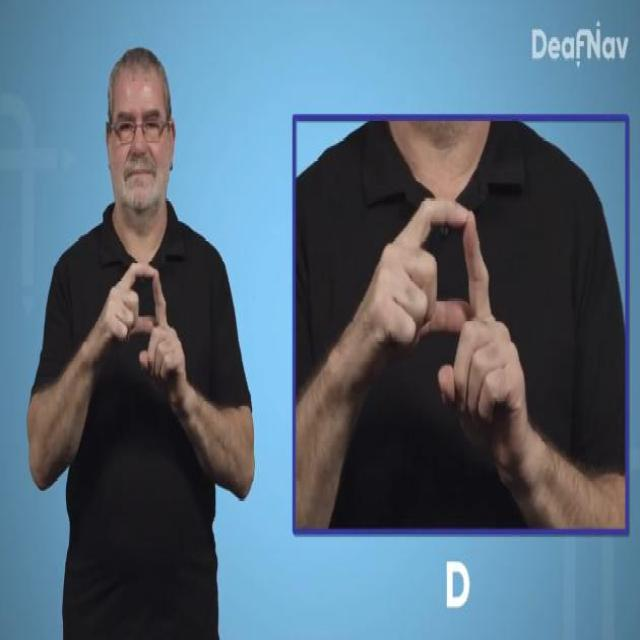D: (378, 193, 528, 463), (103, 257, 186, 399)
